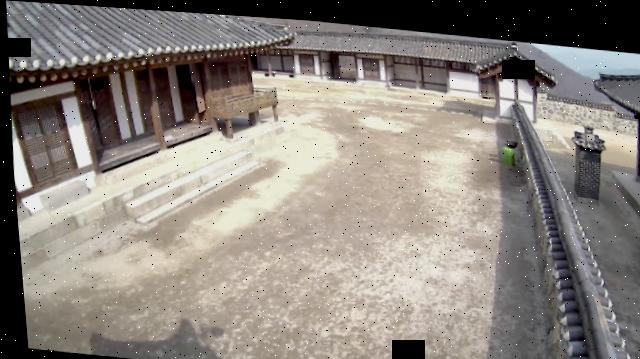bag: (499, 140, 515, 161)
